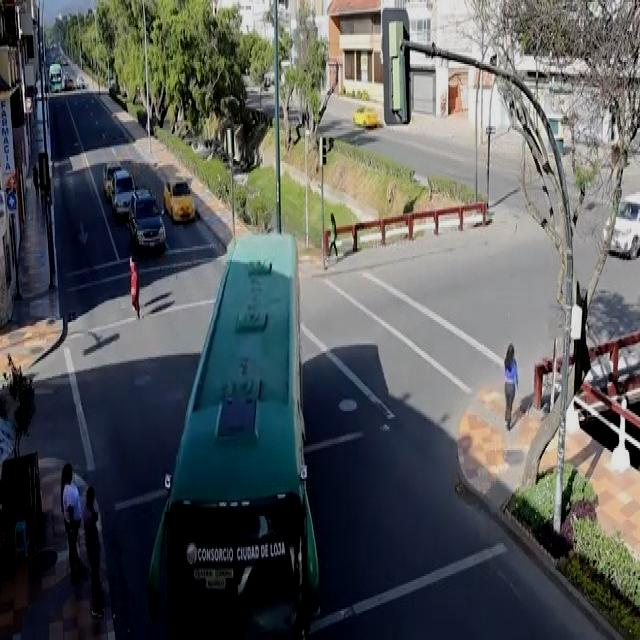BUS: (143, 231, 314, 640)
